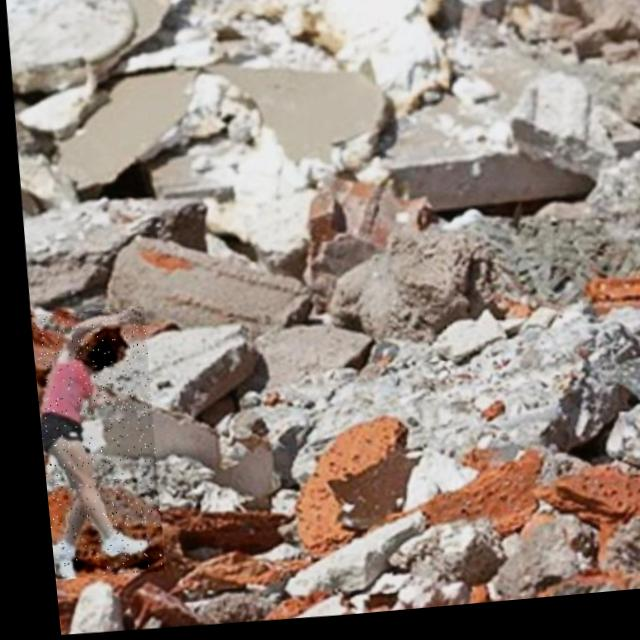Person in Rubble: (24, 306, 157, 580)
